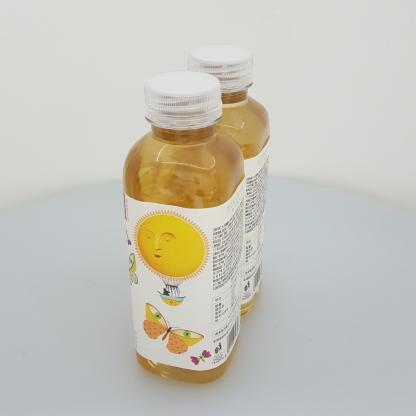------------: (123, 71, 245, 384)
